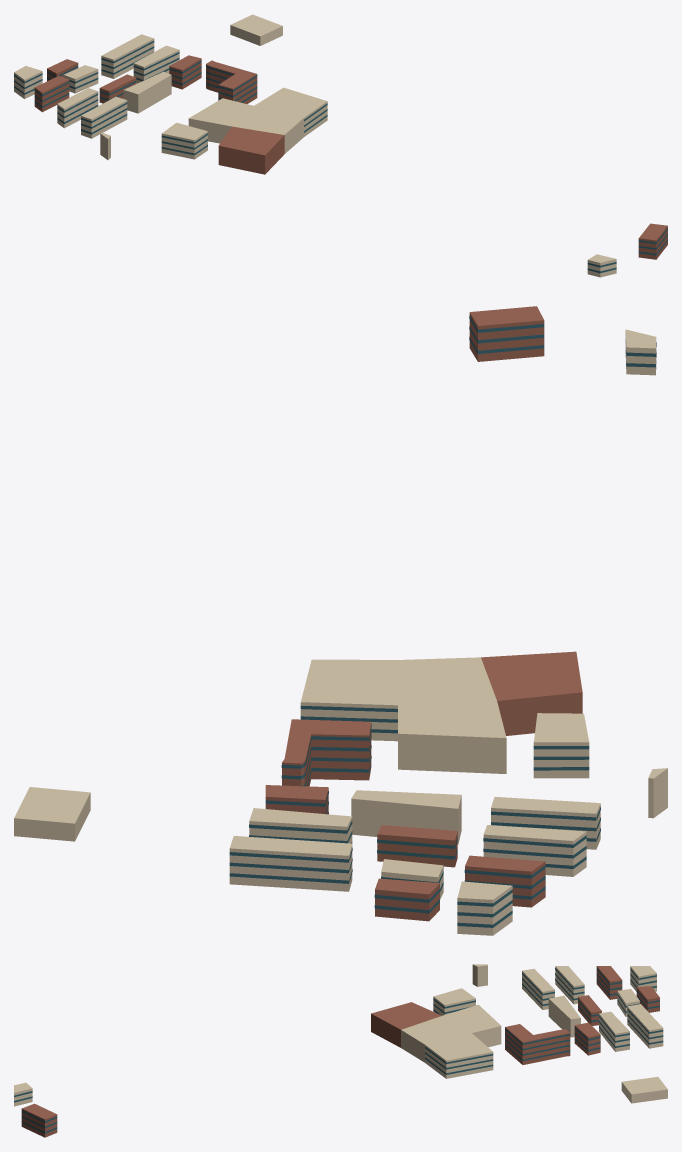
3 renders of one model, top to bottom at view 1: azimuth 30°, elevation 25°; view 2: azimuth 150°, elevation 25°; view 3: azimuth 270°, elevation 25°, orthographic. The views are drawn at different scales.
Parts seen in each view (by area): view 1: osm-way-505661375, osm-way-505661376, osm-way-505661373, osm-way-505661374, osm-way-505661360, osm-way-505664365, osm-way-505661372, osm-way-505661371, osm-way-494395699, osm-way-505661369, osm-way-505661359, osm-way-505661367 (+7 smaller); view 2: osm-way-505661375, osm-way-505661374, osm-way-505661376, osm-way-505661360, osm-way-505661373, osm-way-505661372, osm-way-505661369, osm-way-505641132, osm-way-505664365, osm-way-505661371, osm-way-494395699, osm-way-505661359 (+8 smaller); view 3: osm-way-505661375, osm-way-505661374, osm-way-505661373, osm-way-505661376, osm-way-505661360, osm-way-494395699, osm-way-505641132, osm-way-505661359, osm-way-505661371, osm-way-505661372, osm-way-505664365, osm-way-505661369 (+8 smaller).
Part boxes in pixels (<box>): osm-way-505661375: <box>188,98,303,153</box>; osm-way-505661376: <box>218,126,284,174</box>; osm-way-505661373: <box>206,60,257,104</box>; osm-way-505661374: <box>254,87,327,136</box>; osm-way-505661360: <box>101,34,154,78</box>; osm-way-505664365: <box>161,122,207,159</box>; osm-way-505661372: <box>123,71,171,113</box>; osm-way-505661371: <box>81,96,127,138</box>; osm-way-494395699: <box>230,14,282,45</box>; osm-way-505661369: <box>57,88,98,128</box>; osm-way-505661359: <box>133,45,179,83</box>; osm-way-505661367: <box>34,76,69,112</box>; osm-way-505661375: <box>397,657,506,773</box>; osm-way-505661374: <box>300,659,397,741</box>; osm-way-505661376: <box>481,651,582,735</box>; osm-way-505661360: <box>229,836,352,891</box>; osm-way-505661373: <box>281,719,371,786</box>; osm-way-505661372: <box>351,790,461,844</box>; osm-way-505661369: <box>483,825,586,876</box>; osm-way-505641132: <box>469,306,544,361</box>; osm-way-505664365: <box>533,713,589,778</box>; osm-way-505661371: <box>491,797,600,849</box>; osm-way-494395699: <box>14,787,90,841</box>; osm-way-505661359: <box>249,808,352,843</box>; osm-way-505661375: <box>401,1004,501,1062</box>; osm-way-505661374: <box>425,1033,493,1078</box>; osm-way-505661373: <box>505,1024,570,1064</box>; osm-way-505661376: <box>371,1002,441,1047</box>; osm-way-505661360: <box>627,1004,663,1048</box>; osm-way-494395699: <box>621,1076,667,1103</box>; osm-way-505641132: <box>21,1103,57,1137</box>; osm-way-505661359: <box>599,1011,629,1051</box>; osm-way-505661371: <box>522,968,554,1009</box>; osm-way-505661372: <box>548,995,580,1037</box>; osm-way-505664365: <box>433,988,475,1015</box>; osm-way-505661369: <box>555,966,584,1004</box>.
Bounding box in the file's own units: 245 × 17 × 442.
